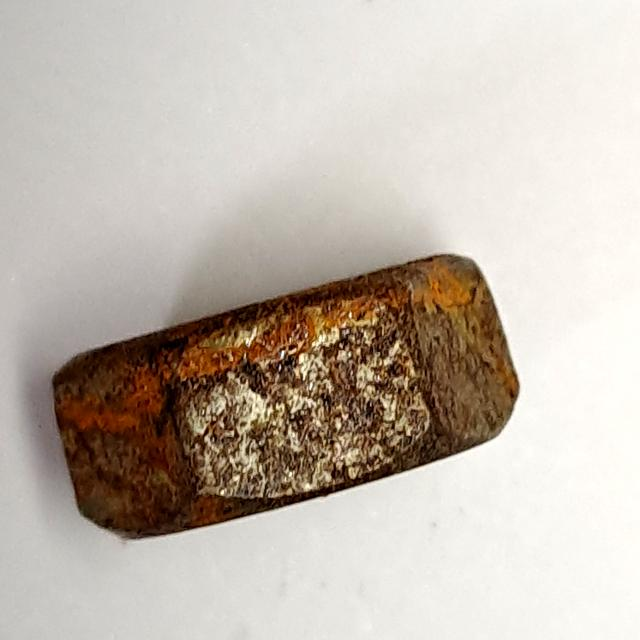Side_Rust: (42, 241, 530, 556)
